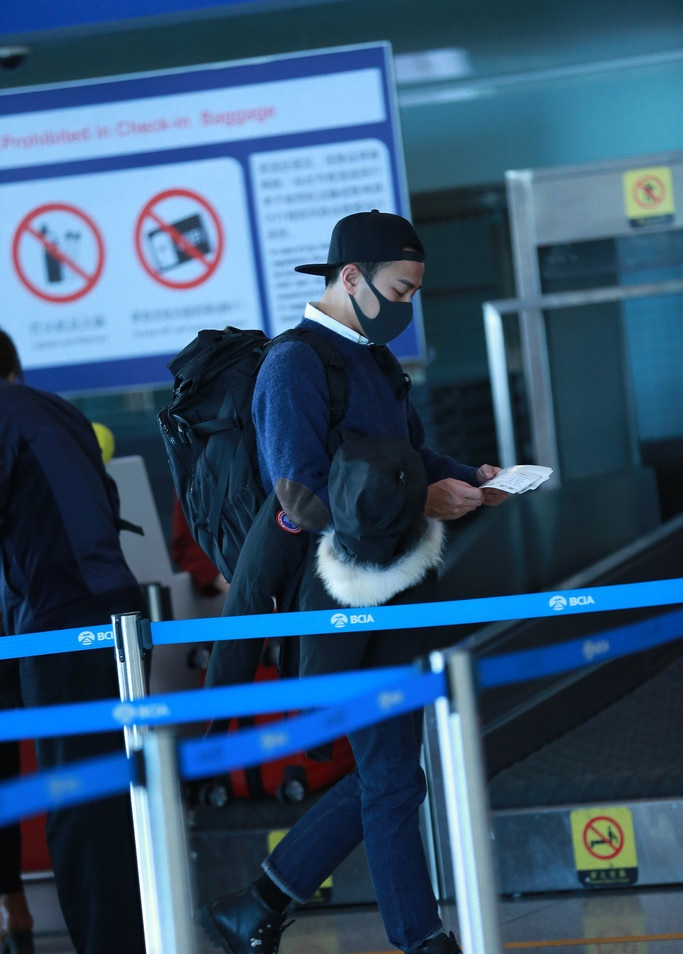face_mask: (355, 252, 420, 341)
